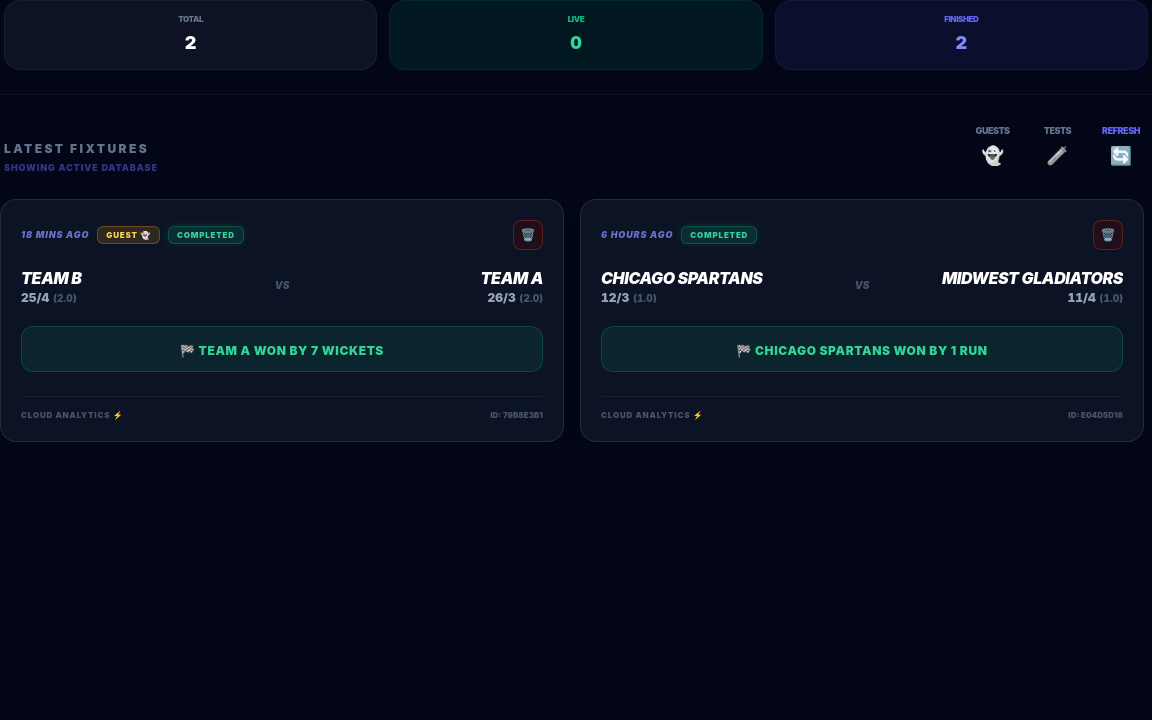
Test: MatchList › shows all matches by default in Admin Panel (showDeleteControls=true) with GUEST 👻 badge, and filters to guest-only when GUESTS 👻 is toggled
Expected: the heading "LATEST FIXTURES" is shown, [4,141,158,157]
Expected: the number of elements with test id "guest-match-badge" is 1, [97,226,160,244]
Click the button "GUESTS 👻": (993,147) [965,119,1021,174]
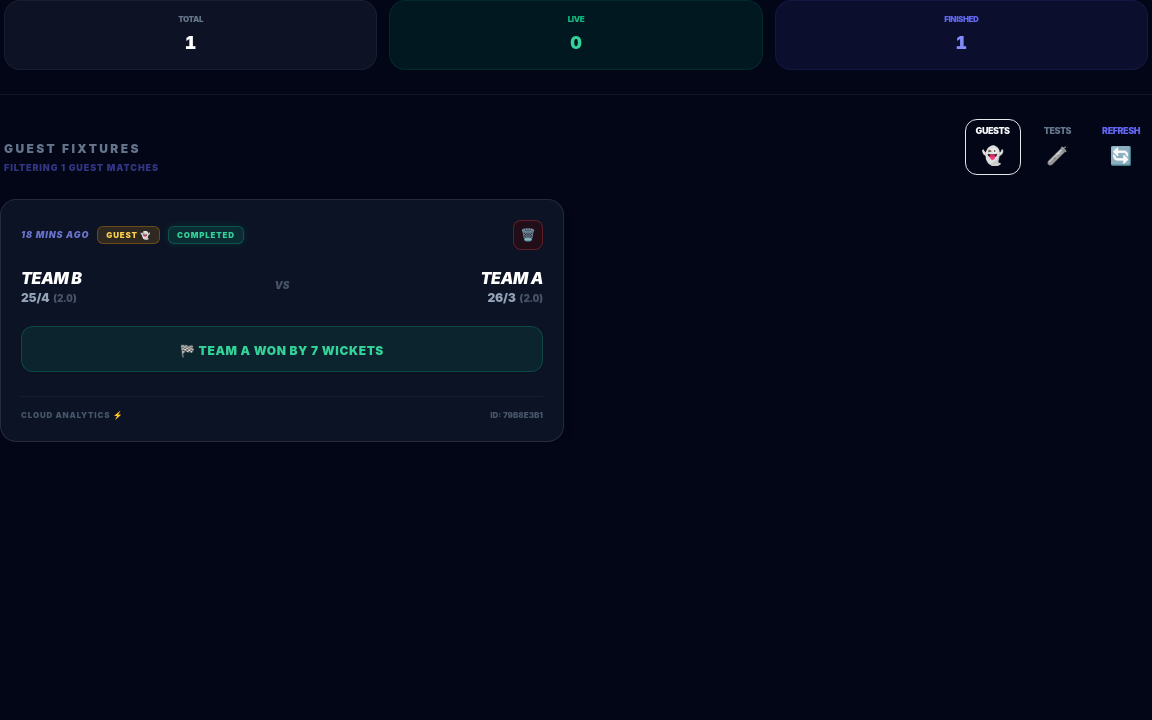
Expected: the number of elements with test id "guest-match-badge" is 1, [97,226,160,244]
Expected: the heading "GUEST FIXTURES" is shown, [4,141,159,157]
Expected: the heading "CHICAGO SPARTANS" is gone
Click the button "GUESTS 👻": (993,147) [965,119,1021,174]
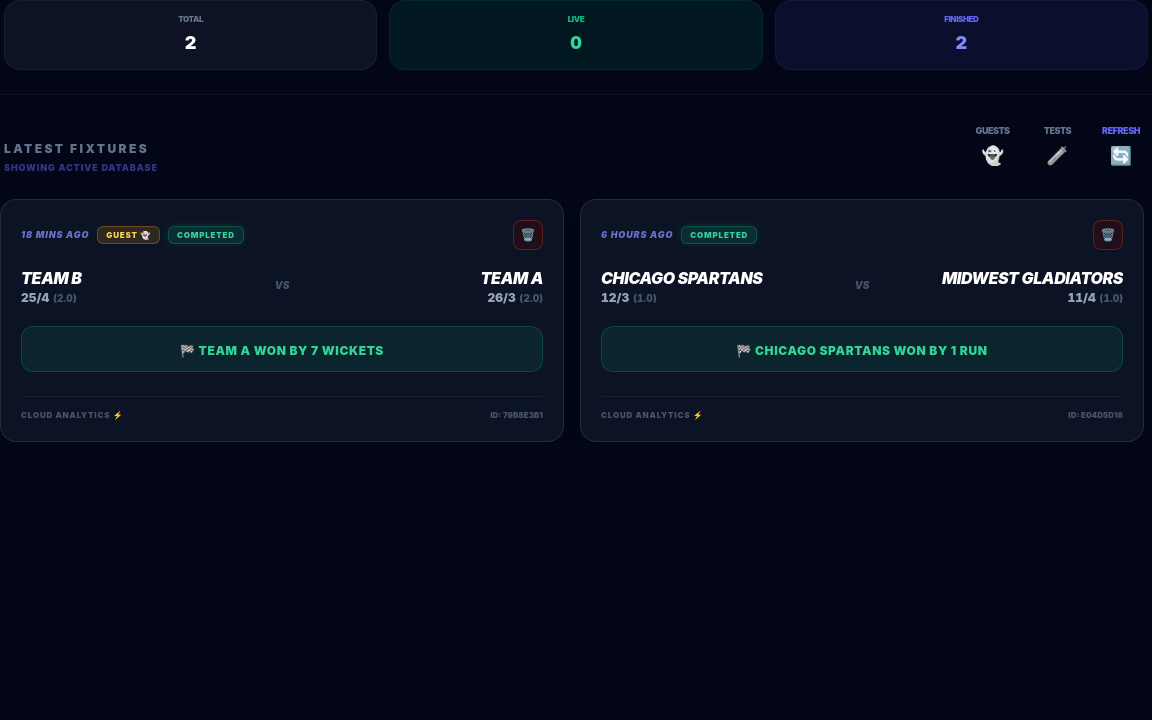
Expected: the heading "LATEST FIXTURES" is shown, [4,141,158,157]
